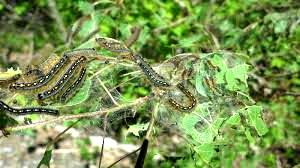Caterpillar: (8, 54, 72, 90), (38, 55, 87, 99), (133, 52, 169, 93), (61, 67, 86, 103), (2, 104, 61, 119), (171, 81, 198, 113)
